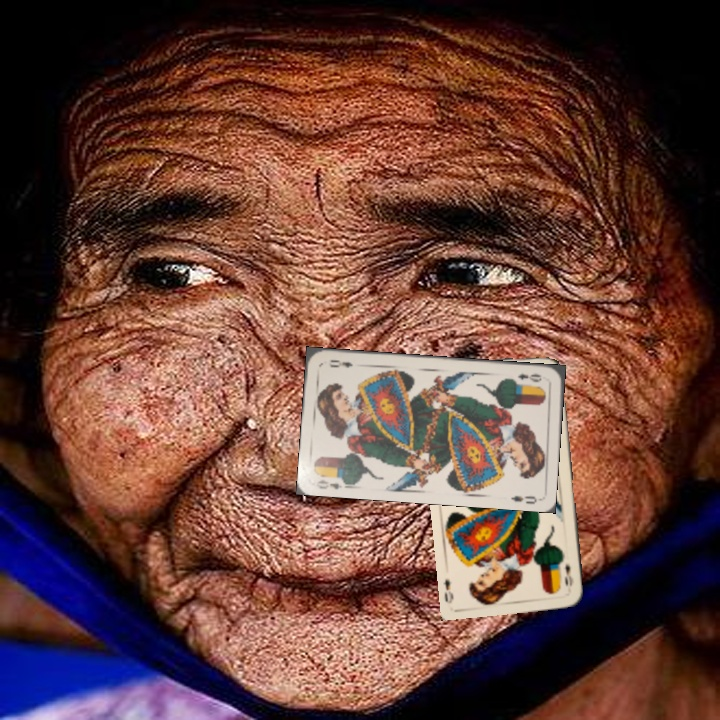EO: (312, 472, 352, 492), (514, 369, 544, 385), (560, 560, 576, 589)
